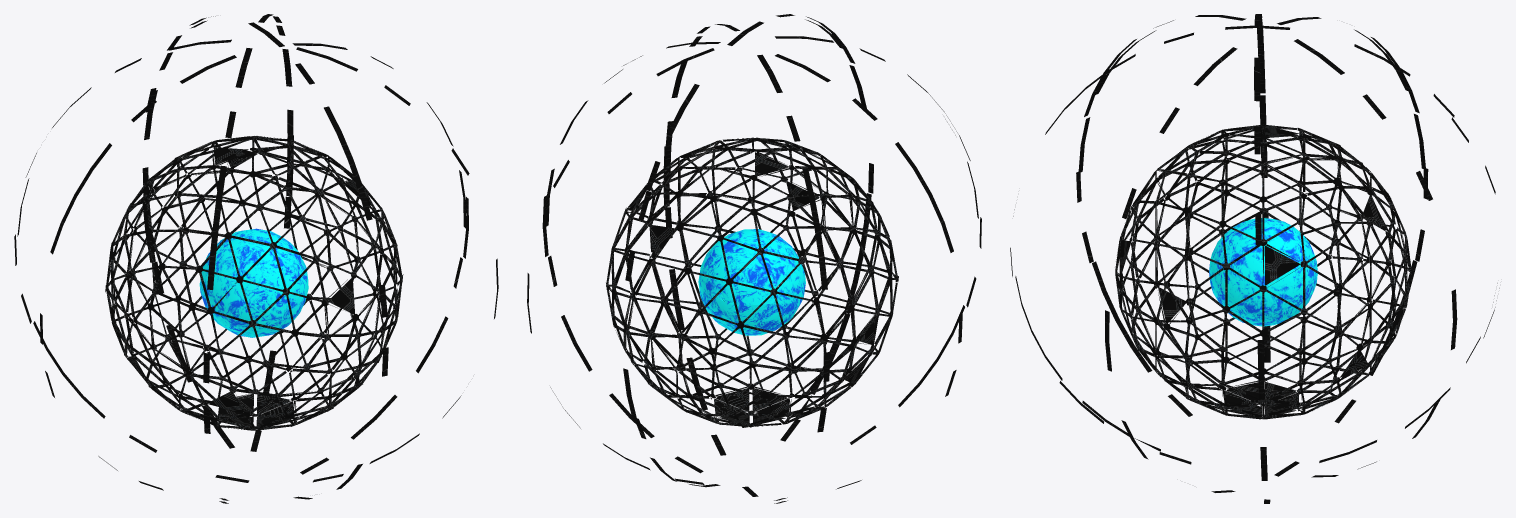
Rendered from DysonSphere.glb.
3 views of the same model, side by side, from view 1: azimuth 30°, elevation 25°; view 2: azimuth 150°, elevation 25°; view 3: azimuth 270°, elevation 25° (orthographic).
Parts seen in each view (by area): view 1: isosphere, sphere, circle1, circle4, circle2, circle3; view 2: isosphere, sphere, circle1, circle3, circle2, circle4; view 3: isosphere, sphere, circle4, circle3, circle2, circle1.
Boxes of the visible parts, x1,y1,x2,y2 form: isosphere: (105, 136, 403, 430); sphere: (199, 228, 308, 337); circle1: (142, 16, 388, 499); circle4: (203, 14, 293, 503); circle2: (40, 43, 468, 490); circle3: (14, 39, 498, 482); isosphere: (606, 137, 898, 427); sphere: (698, 229, 805, 335); circle1: (623, 14, 873, 487); circle3: (663, 24, 830, 503); circle2: (542, 42, 962, 489); circle4: (527, 36, 981, 484); isosphere: (1115, 124, 1411, 419); sphere: (1209, 218, 1317, 326); circle4: (1076, 15, 1457, 477); circle3: (1105, 17, 1428, 492); circle2: (1254, 14, 1270, 503); circle1: (1010, 25, 1499, 464).
Bounding box in the file's own units: 1.88 × 1.94 × 1.88.
Materials: 4 (4 with a texture image).
